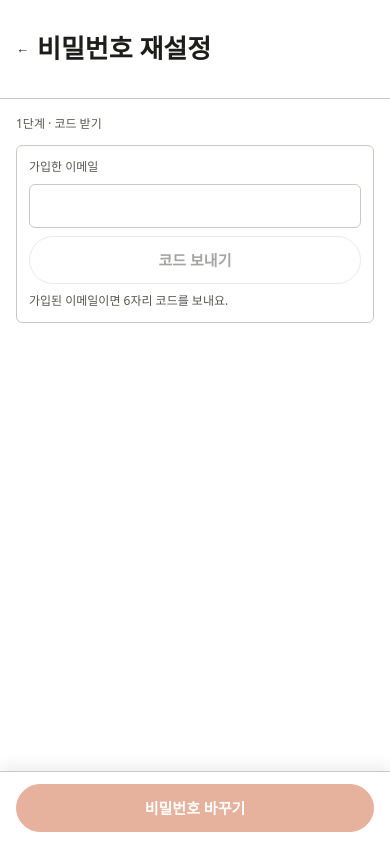
Test: PasswordResetPage (A3) › 제출하면 확인을 요청하고 세션을 정리한 뒤 /login에서 완료 안내를 보인다
Expected: the heading "비밀번호 재설정" is shown, top-left (37, 29), bottom-right (211, 68)
Step 1. Type "a@b.c" into the field labelled "가입한 이메일" → (195, 206), box top-left (29, 184), bottom-right (361, 228)
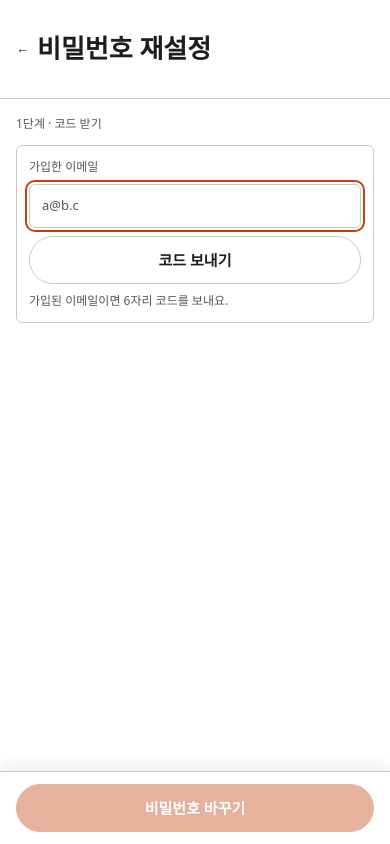
Step 2. Click the button "코드 보내기" → (195, 260), box top-left (29, 236), bottom-right (361, 284)
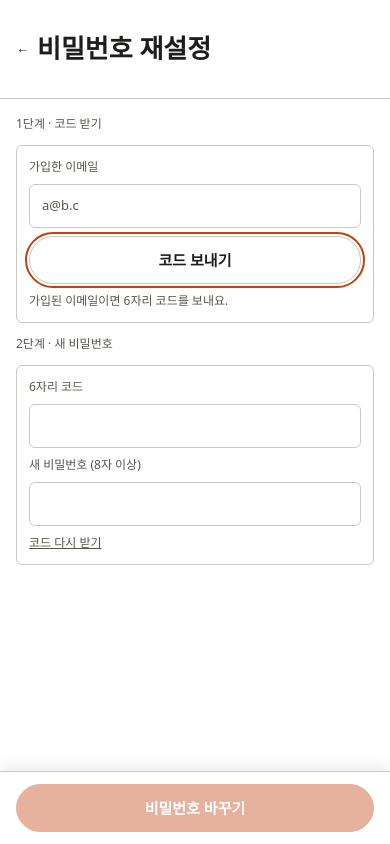
Step 3. Type "123456" into the field labelled "6자리 코드" → (195, 426), box top-left (29, 404), bottom-right (361, 448)
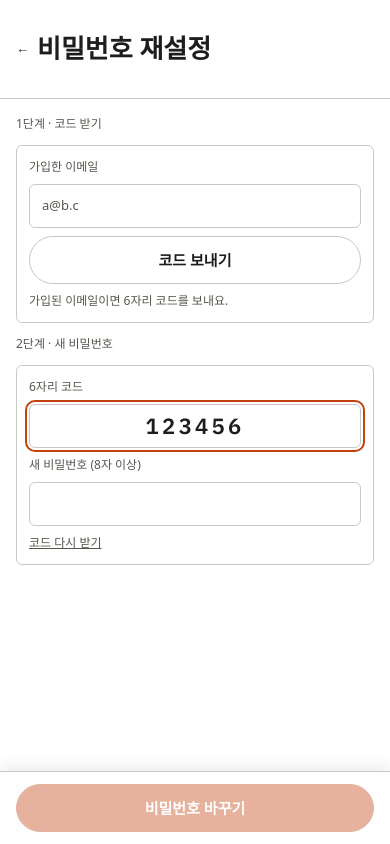
Step 4. Type "pw123456" into the password field labelled "새 비밀번호 (8자 이상)" → (195, 504), box top-left (29, 482), bottom-right (361, 526)
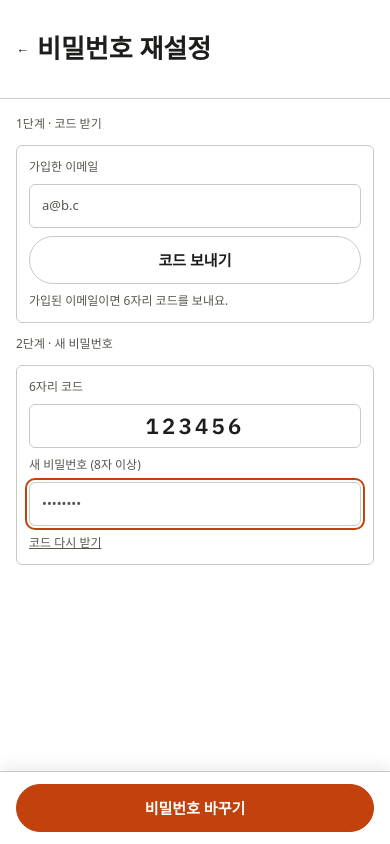
Step 5. Click the button "비밀번호 바꾸기" → (195, 808), box top-left (16, 784), bottom-right (374, 832)
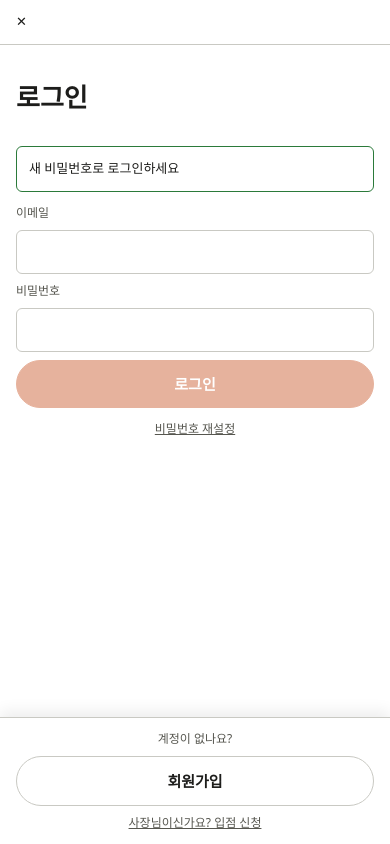
Result: the message reads "새 비밀번호로 로그인하세요" at top-left (29, 159), bottom-right (179, 177)
